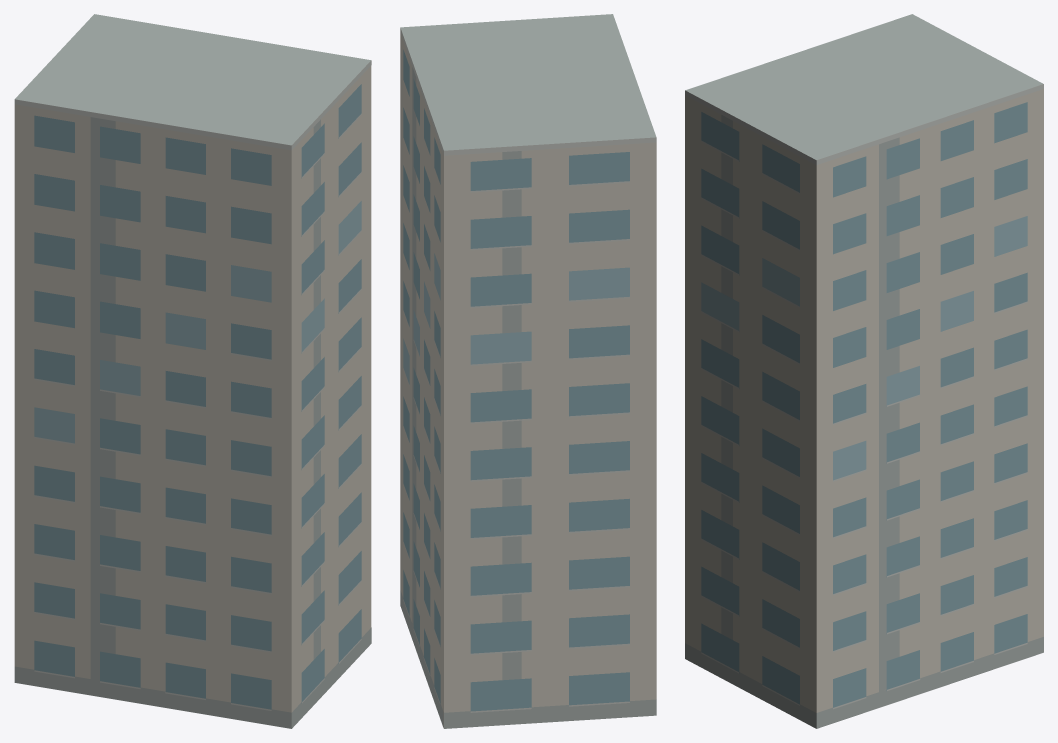
The model's file is residential-57499cc8-00f0-4bf1-b623-41c90412a042.glb.
3 views of the same model, side by side, from view 1: azimuth 30°, elevation 25°; view 2: azimuth 150°, elevation 25°; view 3: azimuth 270°, elevation 25° (orthographic). The views are drawn at different scales.
Parts seen in each view (by area): view 1: residential-57499cc8-00f0-4bf1-b623-41c90412a042.tmp; view 2: residential-57499cc8-00f0-4bf1-b623-41c90412a042.tmp; view 3: residential-57499cc8-00f0-4bf1-b623-41c90412a042.tmp.
Boxes of the visible parts, <box> form: residential-57499cc8-00f0-4bf1-b623-41c90412a042.tmp: <box>14,14,371,728</box>; residential-57499cc8-00f0-4bf1-b623-41c90412a042.tmp: <box>400,14,656,728</box>; residential-57499cc8-00f0-4bf1-b623-41c90412a042.tmp: <box>685,14,1043,728</box>.
Size of the model in its own units: 15.46 by 28 by 16.02.
